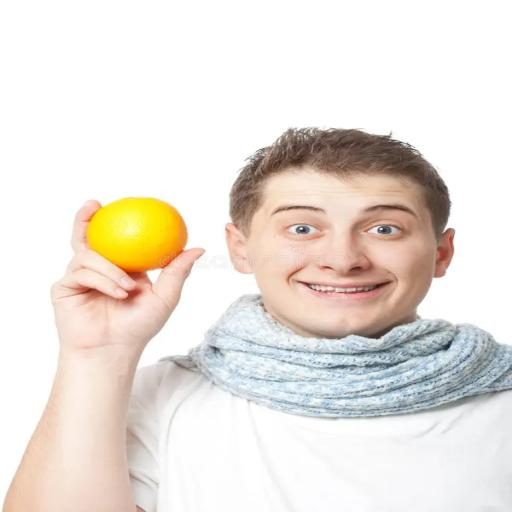orange: (87, 198, 187, 271)
